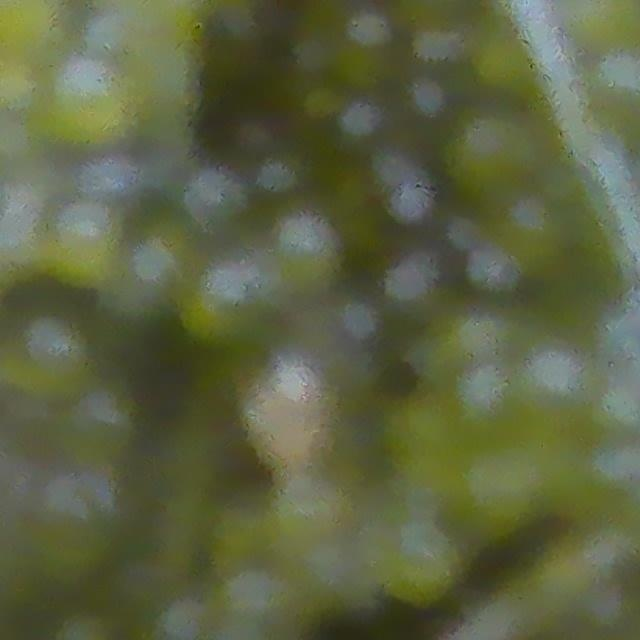SeaGrape: (39, 59, 142, 151), (442, 106, 540, 200), (49, 202, 125, 288), (270, 211, 344, 292), (18, 315, 89, 396), (470, 30, 542, 100), (125, 225, 195, 297), (384, 249, 441, 308)
